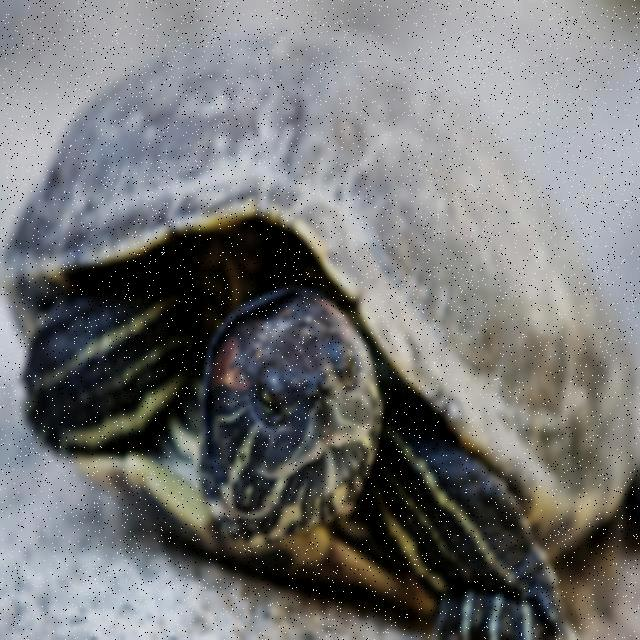tortoise: (5, 70, 640, 640)
